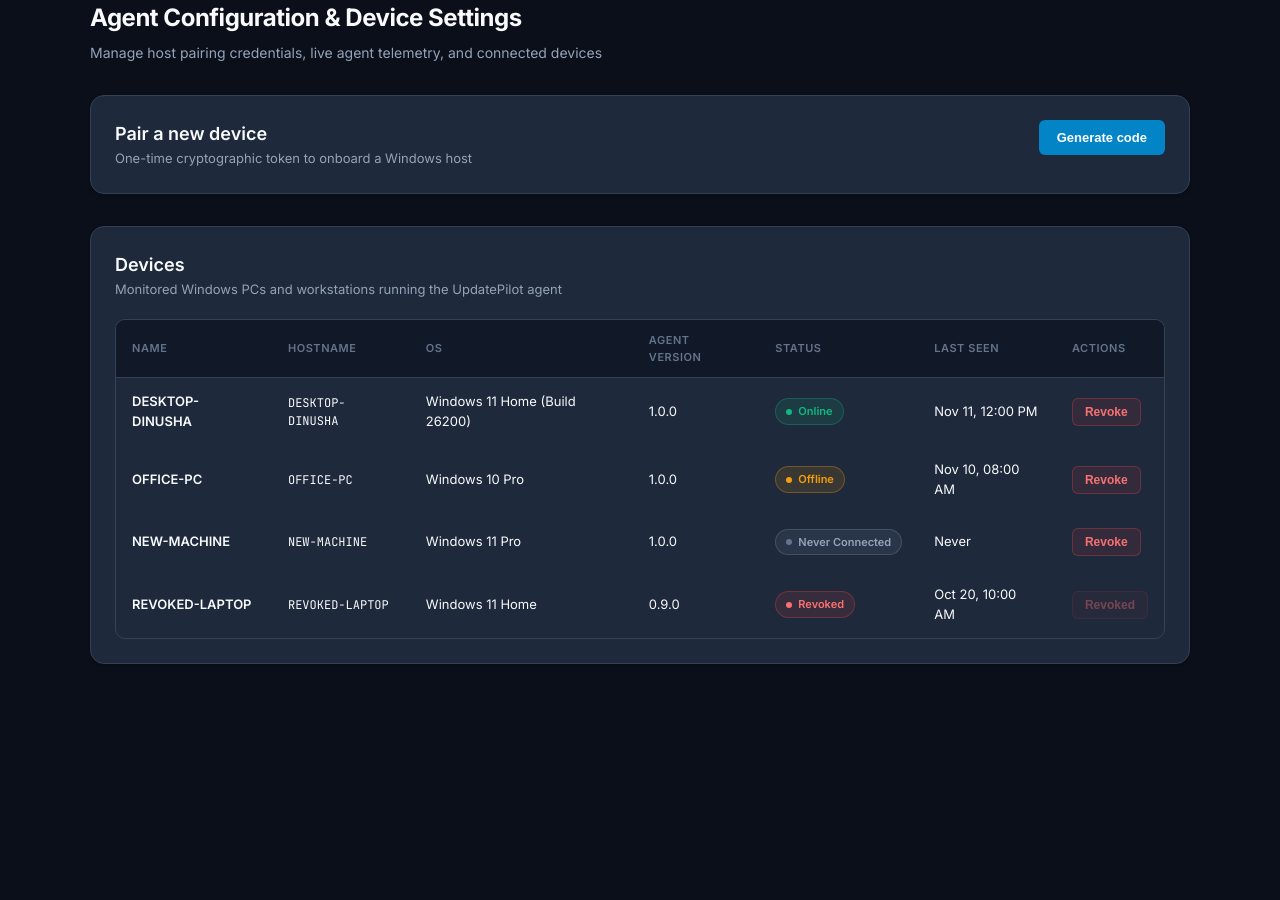
Test: Settings & Agent Configuration Screen › executes revocation, updates device status to Revoked, and shows success message
Expected: the row with test id "device-row-dev-1" is shown, x1=116 y1=378 x2=1164 y2=446
Step 1. Click the button with aria-label "revoke device desktop-dinusha" → [1106, 412], box x1=1072 y1=398 x2=1141 y2=426
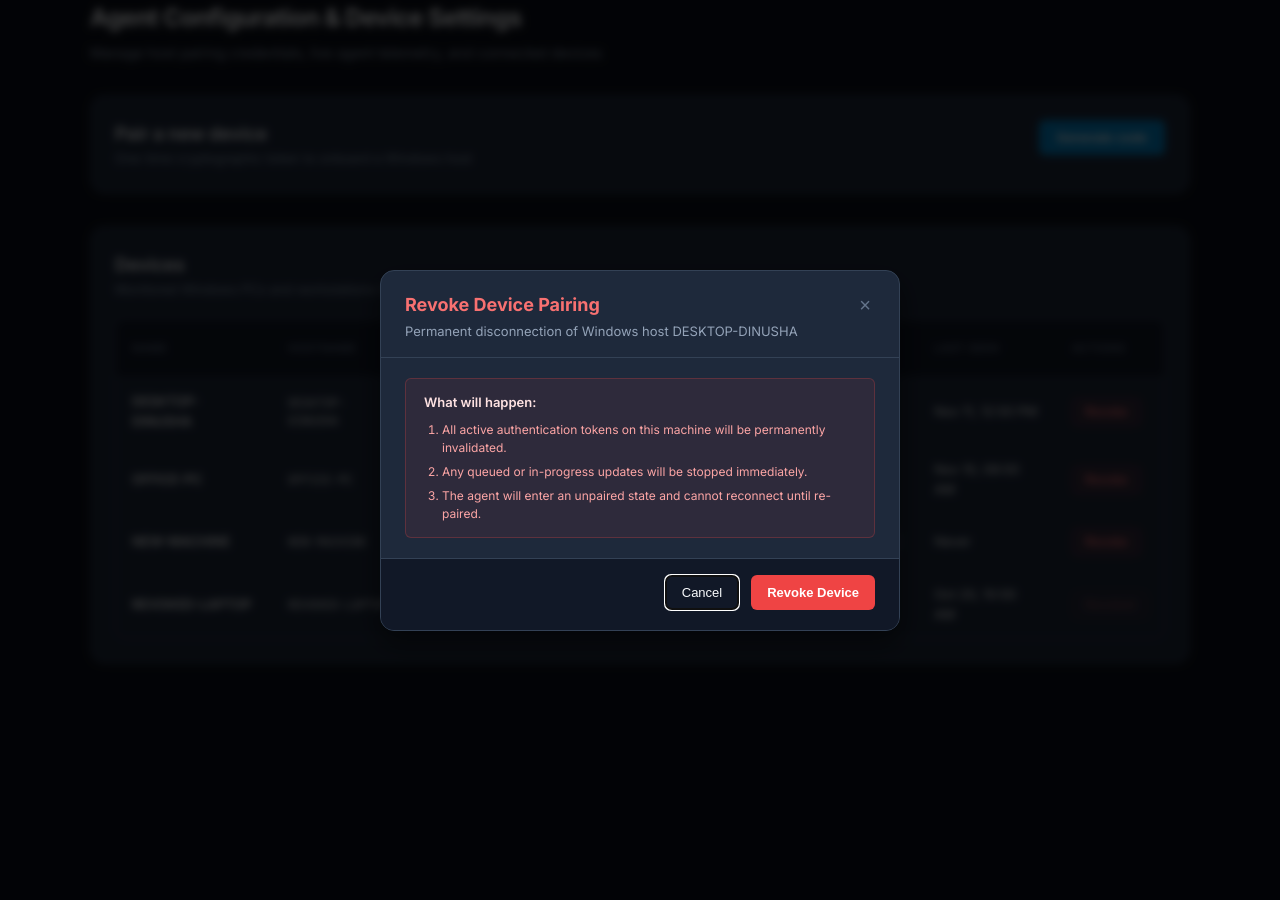
Step 2. Click the button with aria-label "confirm revoke device pairing" → [813, 592], box x1=751 y1=574 x2=875 y2=610
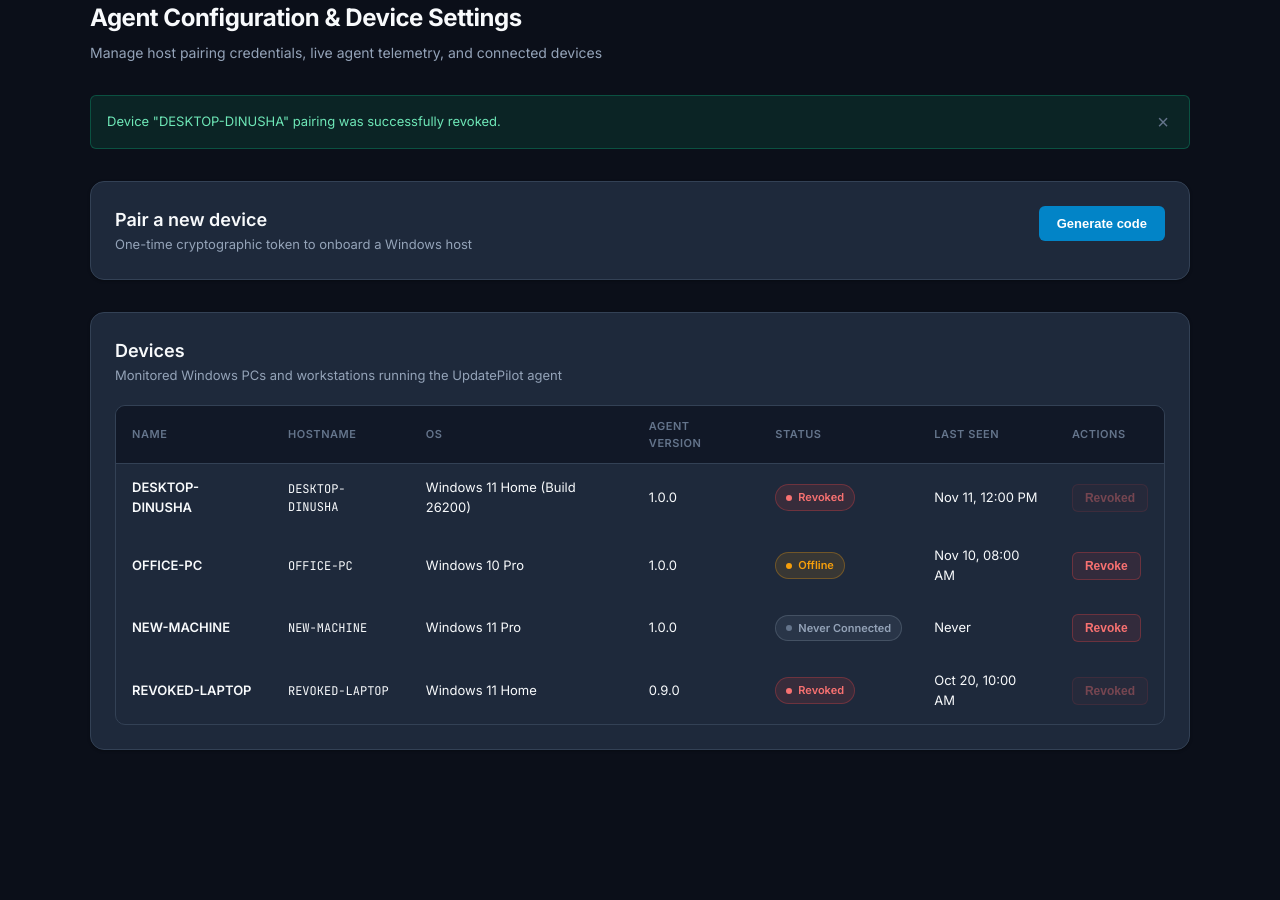
Result: the dialog is gone
Result: the text with test id "status-badge-dev-1" reads "Revoked" at x1=798 y1=490 x2=844 y2=504
Result: the message shows "pairing was successfully revoked" at x1=107 y1=113 x2=501 y2=129
